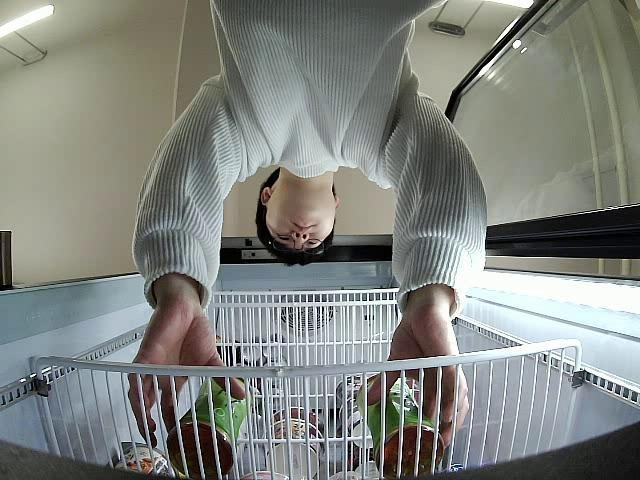19_17cha: (167, 365, 257, 478), (356, 370, 443, 480)
